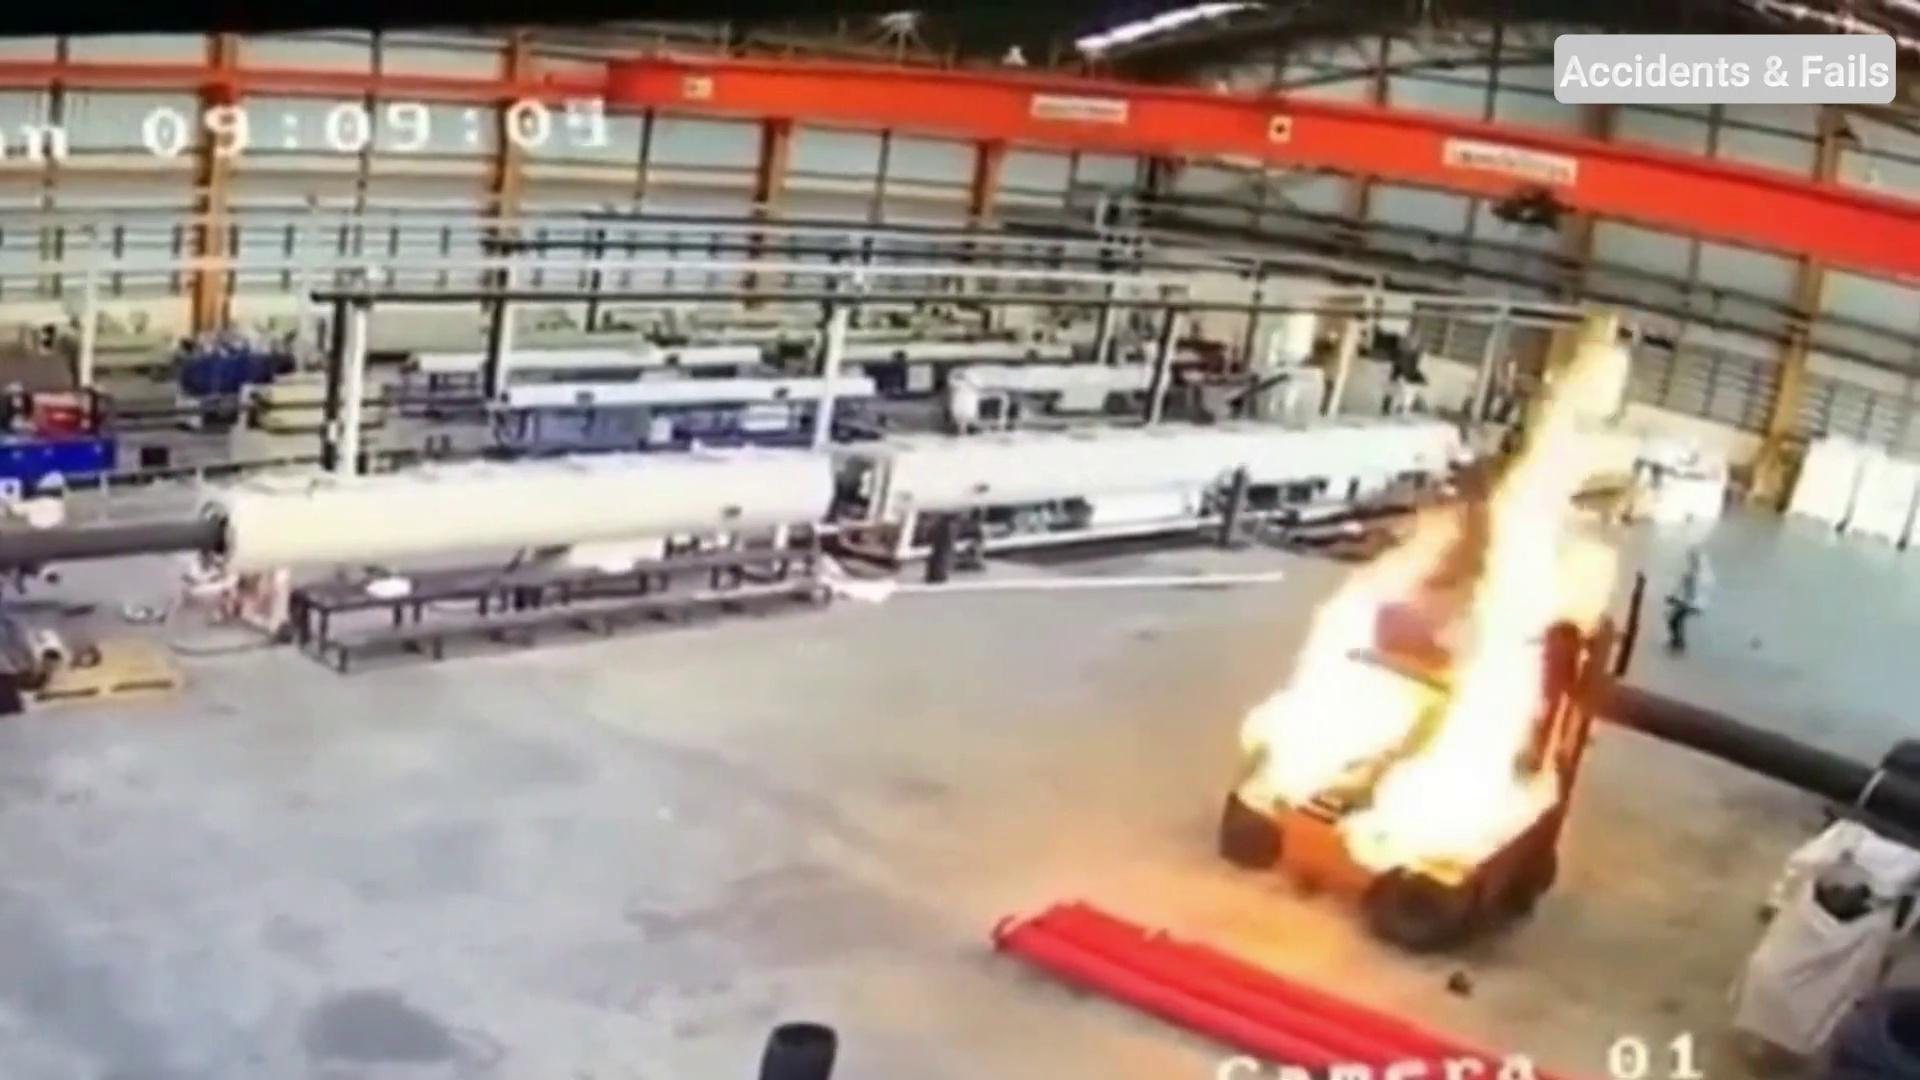fire: (1147, 207, 1727, 992)
